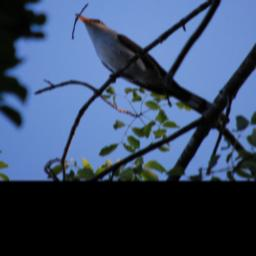Cuckoo: (72, 11, 212, 112)
